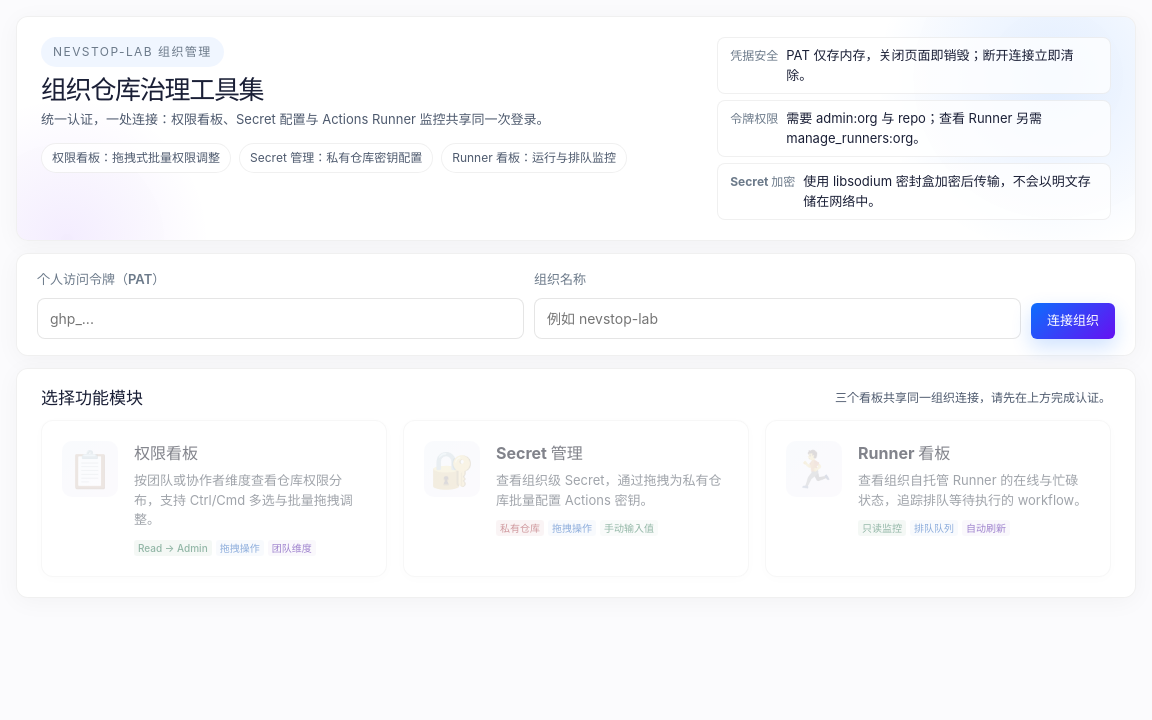
it: Root › disconnect clears credentials and locks the boards again
Type "token-value" into the password field labelled "个人访问令牌（PAT）".
click(280, 318); type("token-value")  # box [37,298,524,338]
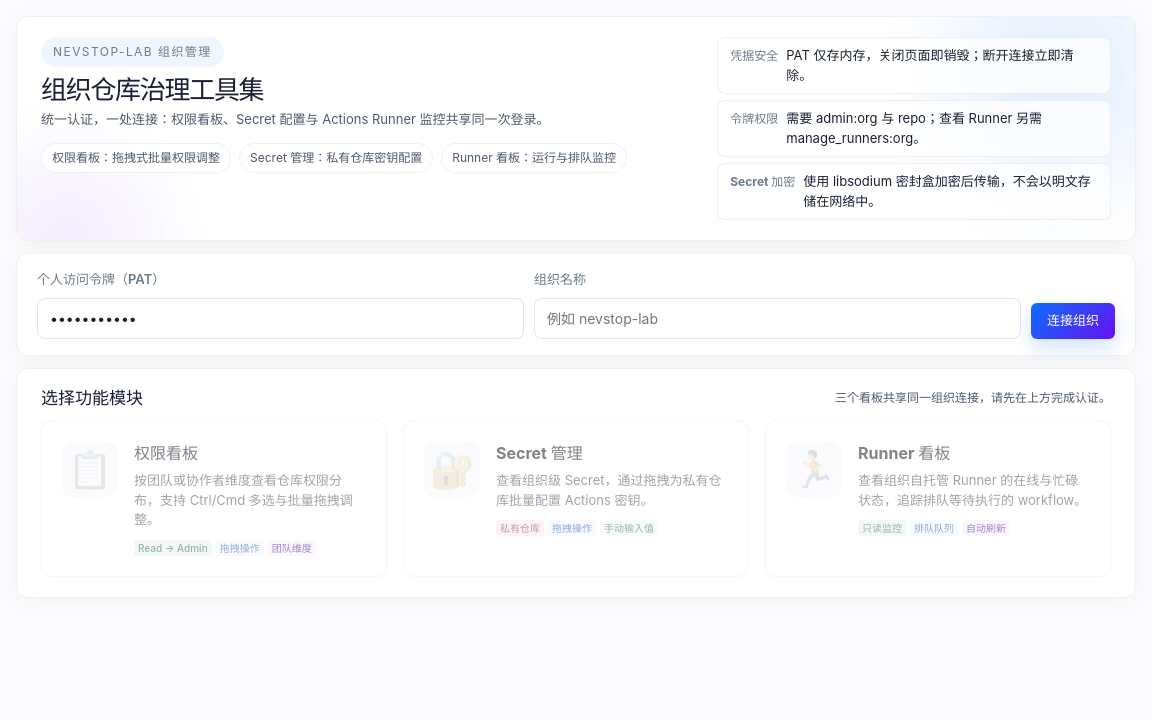
Type "acme" into the field labelled "组织名称".
click(778, 318); type("acme")  # box [534,298,1021,338]
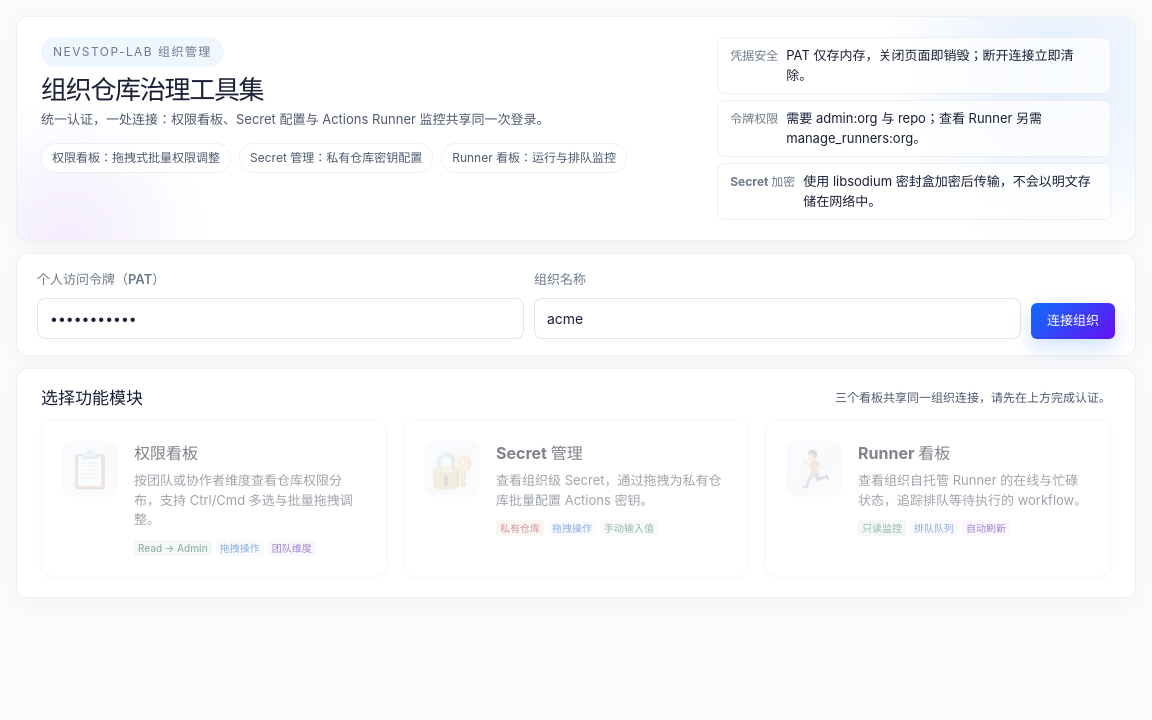
Click the button "连接组织".
click(1073, 321)  # box [1031,303,1115,338]
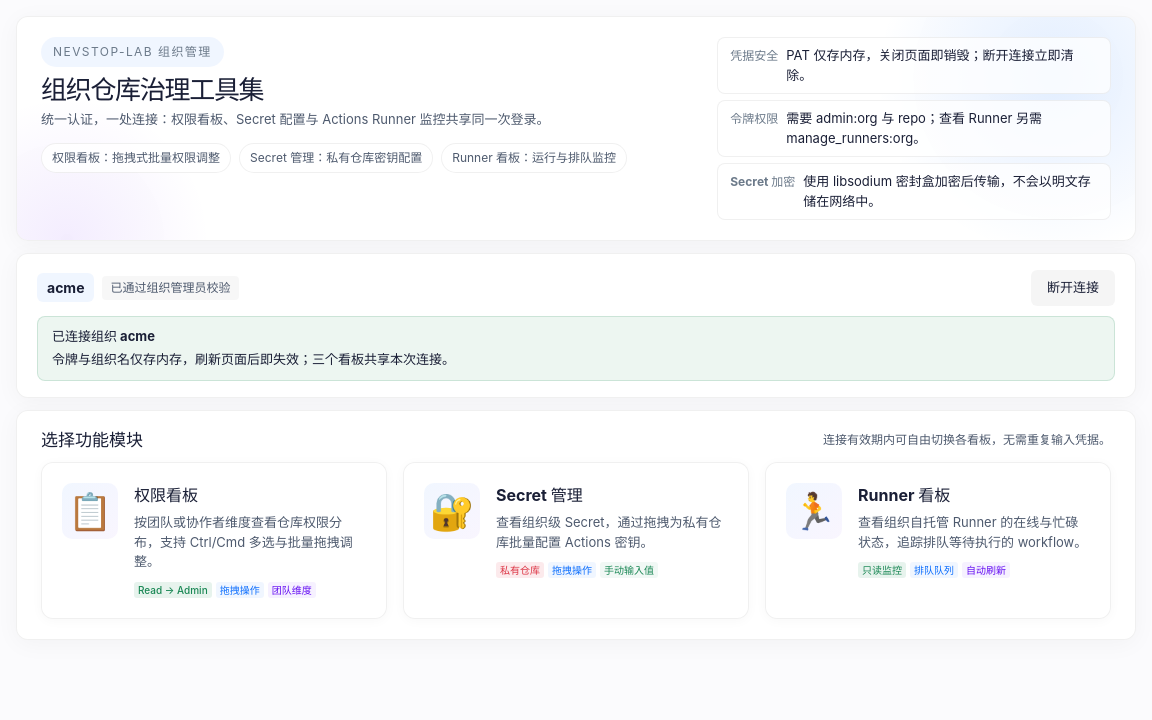
expect the button "断开连接" is shown: met
Click the button "断开连接".
click(1073, 288)  # box [1031,270,1115,306]
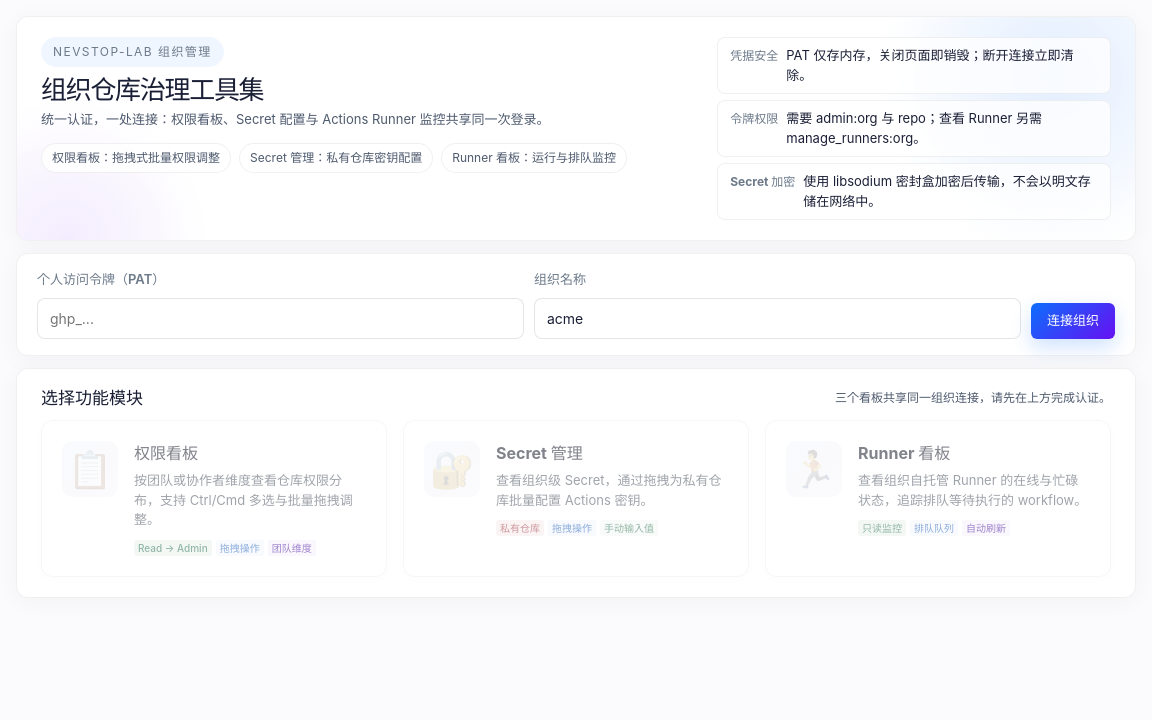
expect the button "连接组织" is shown: met, box [1031,303,1115,338]
expect the button "权限看板" is disabled: met, box [41,420,387,576]
expect the password field labelled "个人访问令牌（PAT）" is empty: met, box [37,298,524,338]
